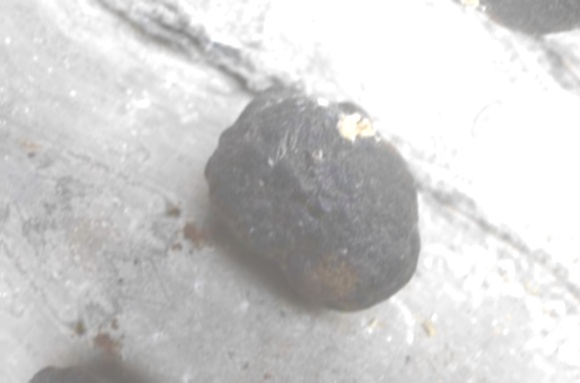halobolite: (165, 46, 480, 355)
